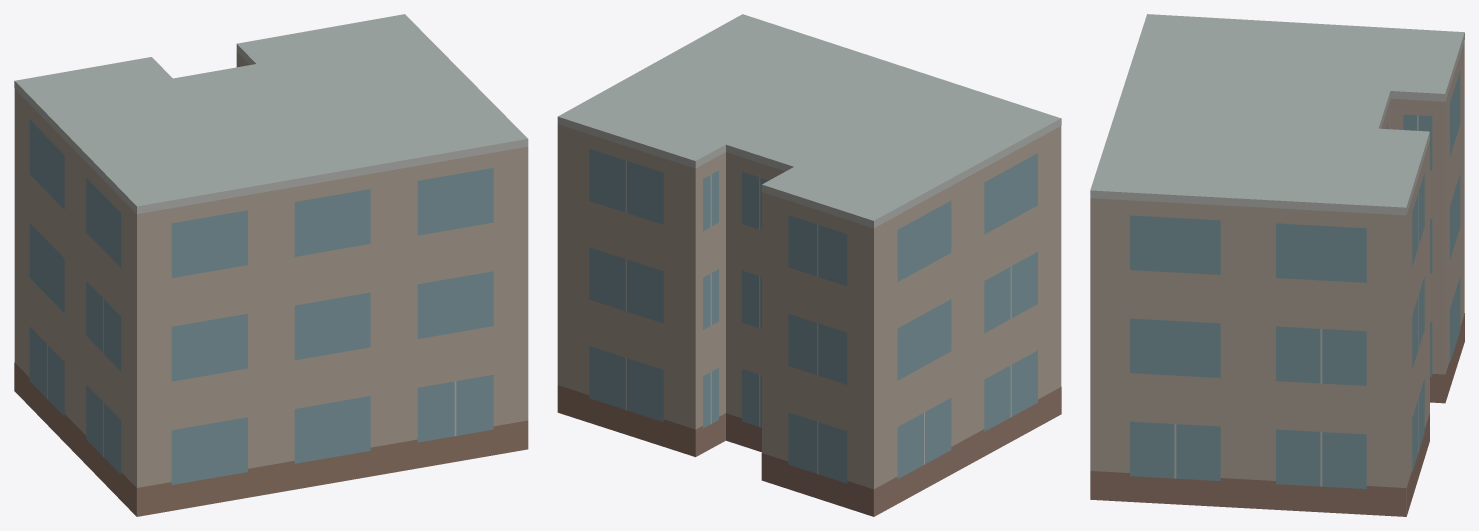
File: survey-upis-32819217.glb
The picture shows the model from 3 angles, left to right: view 1: azimuth 30°, elevation 25°; view 2: azimuth 150°, elevation 25°; view 3: azimuth 270°, elevation 25°; orthographic projection. The views are drawn at different scales.
Visible parts, largest first — view 1: survey-upis-32819217.tmp; view 2: survey-upis-32819217.tmp; view 3: survey-upis-32819217.tmp.
Part boxes in pixels (x1,y1,x2,y2): survey-upis-32819217.tmp: (14, 14, 528, 516); survey-upis-32819217.tmp: (557, 14, 1061, 516); survey-upis-32819217.tmp: (1090, 14, 1464, 516).
Size of the model in its own units: 13.1 by 9.75 by 10.72.
